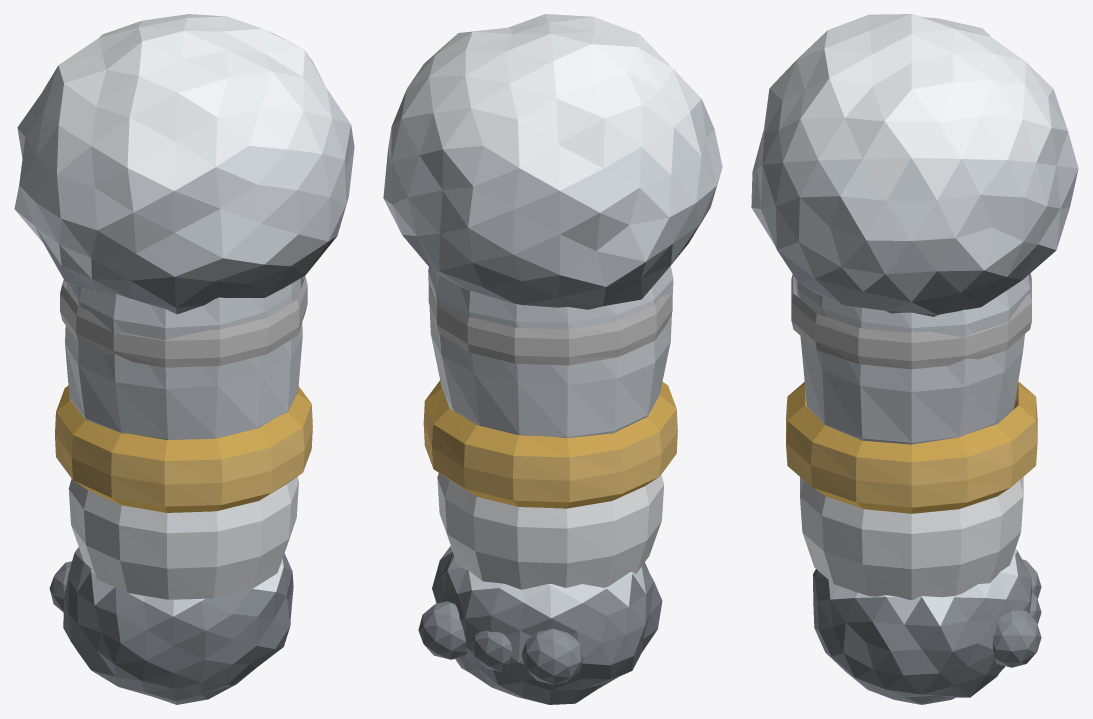
File: StoneArm.obj
The picture shows the model from 3 angles, left to right: view 1: azimuth 30°, elevation 25°; view 2: azimuth 150°, elevation 25°; view 3: azimuth 270°, elevation 25°; orthographic projection.
Bounding box in the file's own units: 0.683 × 1.46 × 0.655.
